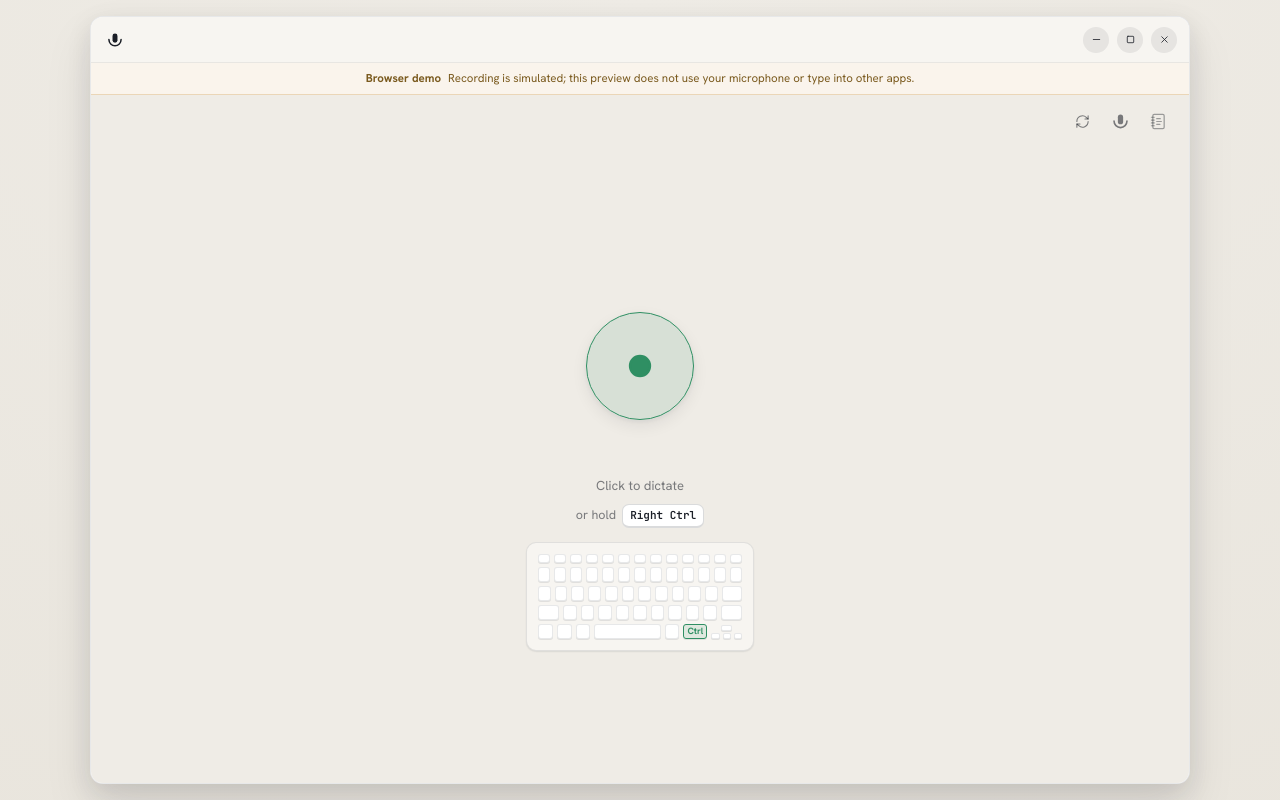
Scenario: Notes list (history view) › archive button removes a note from the visible list
Press k
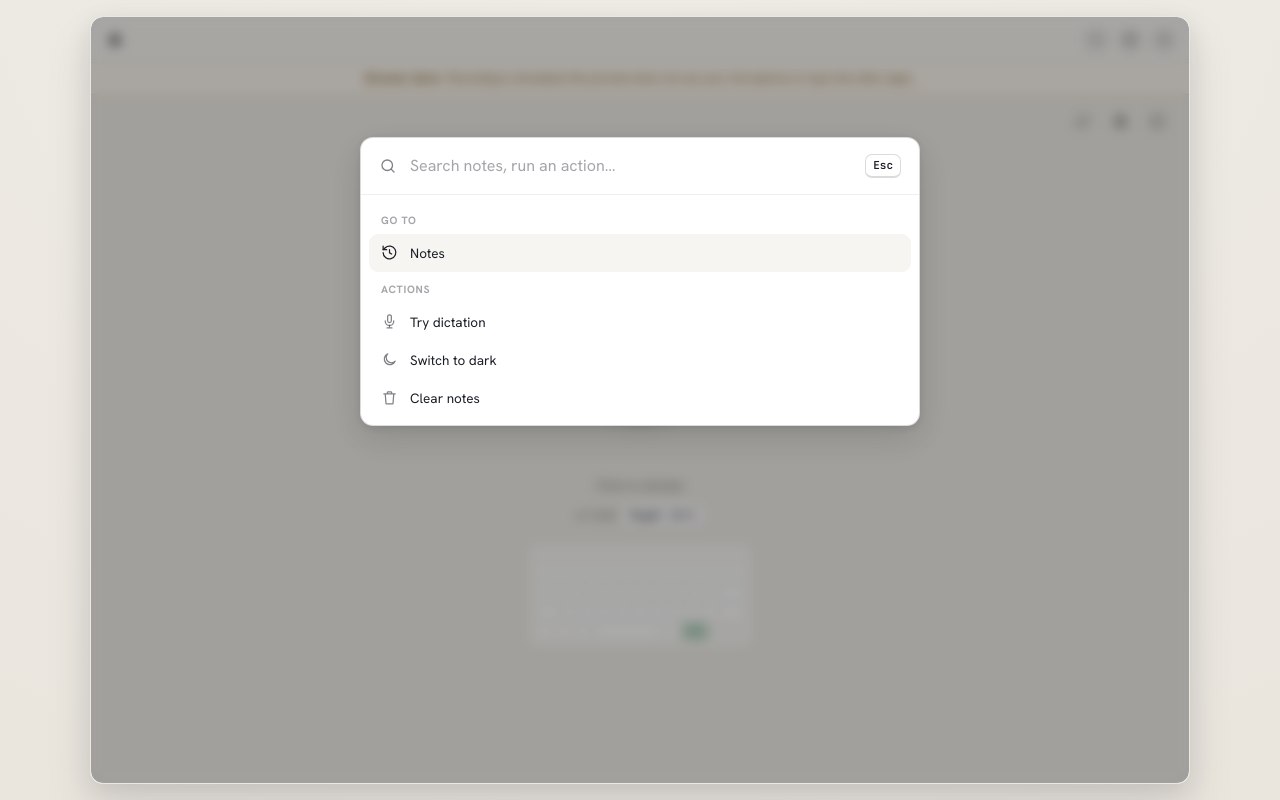
In the field with placeholder "Search notes, run an action…": (631, 166) [408,153,854,179], type "Notes"
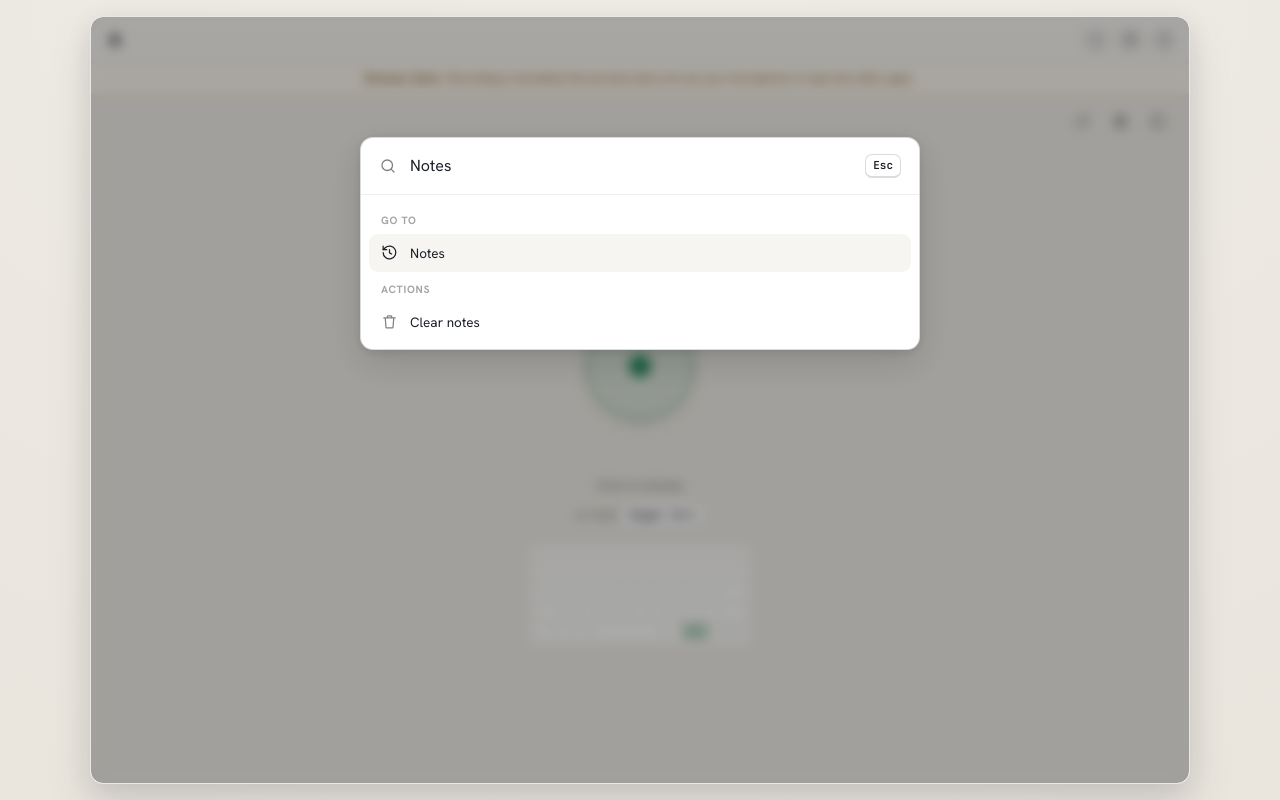
Press Enter in the field with placeholder "Search notes, run an action…", box [408,153,854,179]
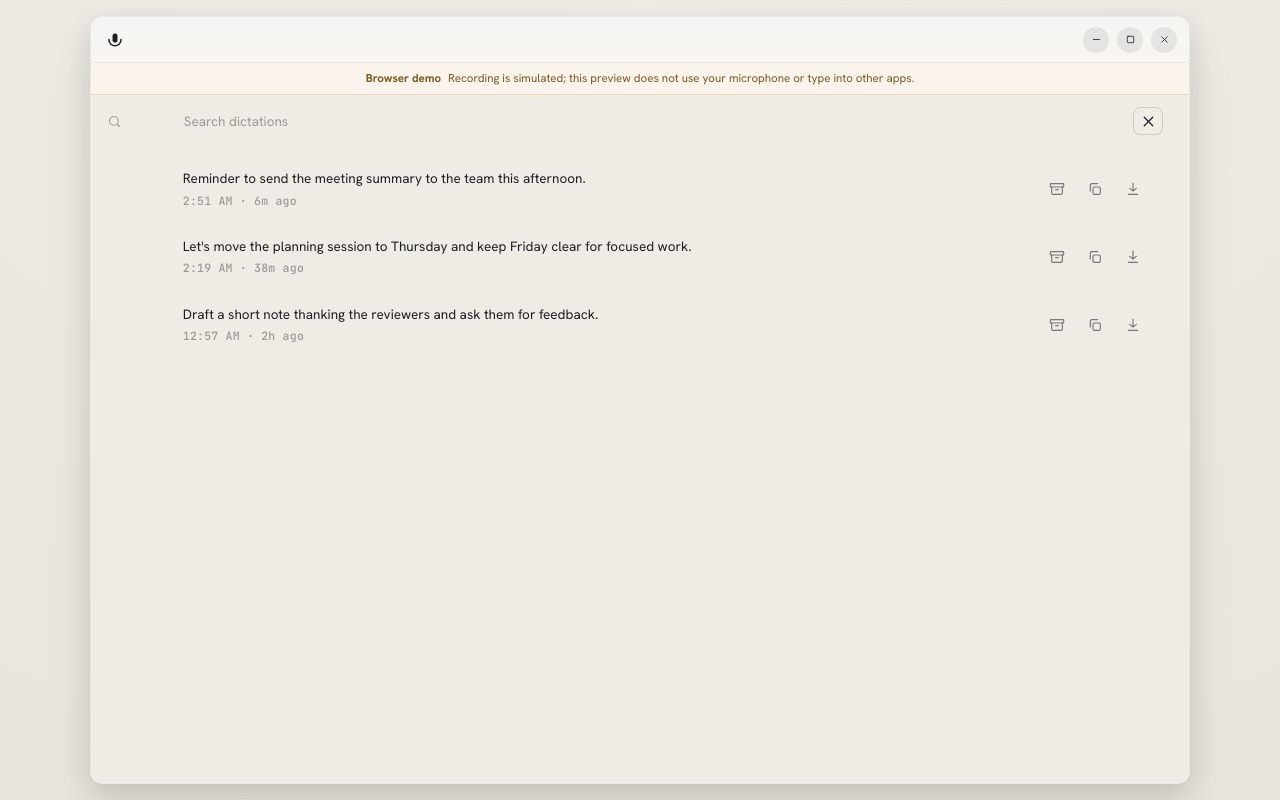
Now the text "meeting summary" is shown, box [183,169,586,187]
Click the 1st button titled "Archive note": (1057, 189) [1042,175,1072,203]
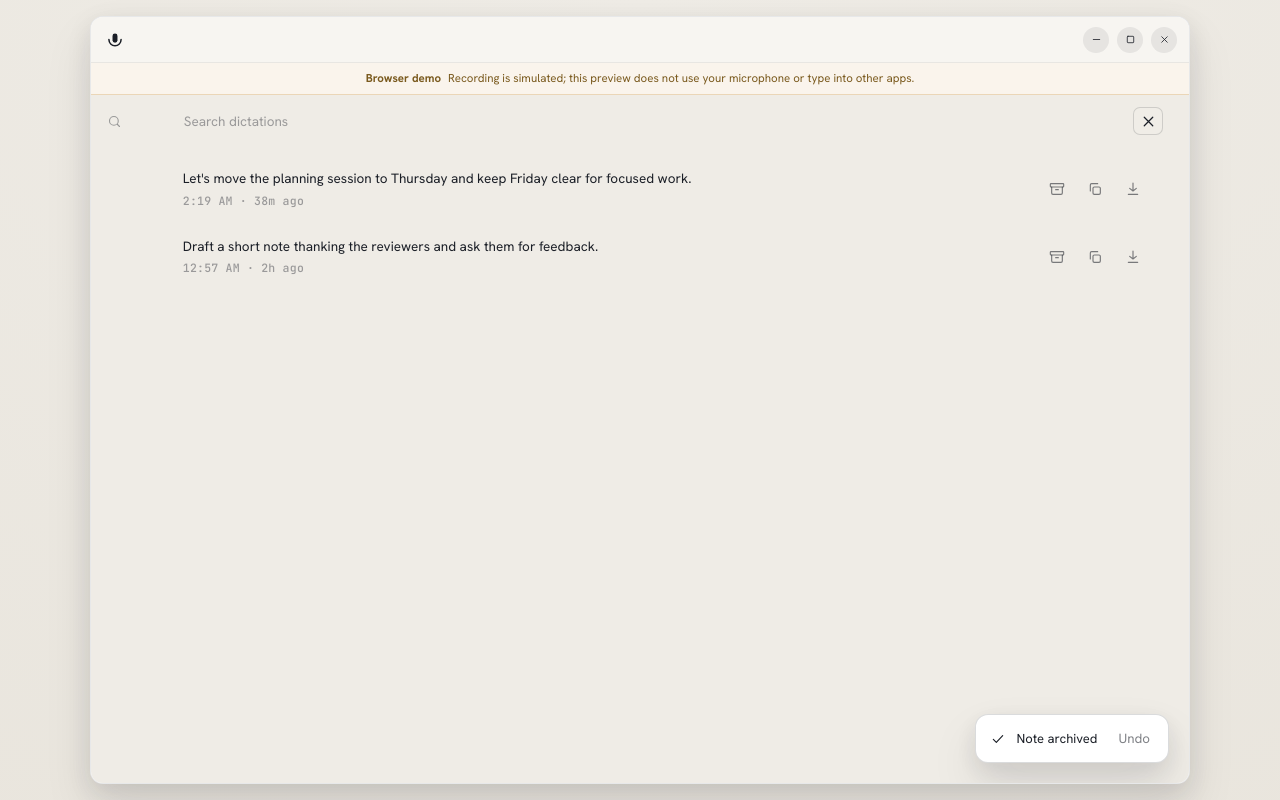
Now the text "Note archived" is shown, box [1016,729,1097,748]
Now the button "meeting summary" is gone
